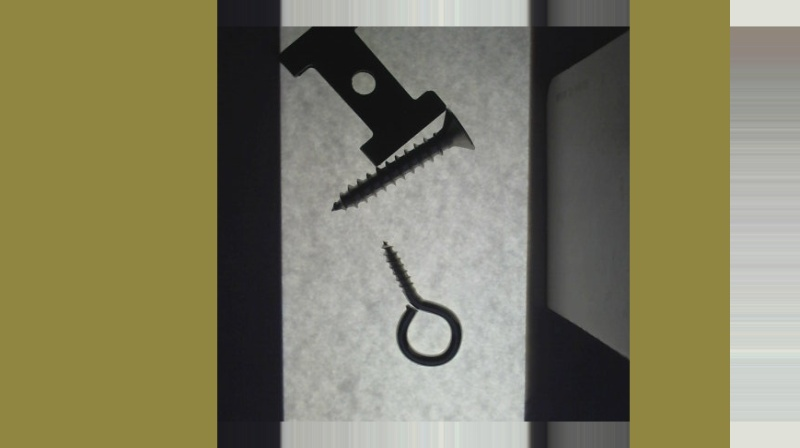O001: (380, 239, 462, 368)
O002: (279, 0, 450, 166)
S001: (331, 107, 476, 212)
